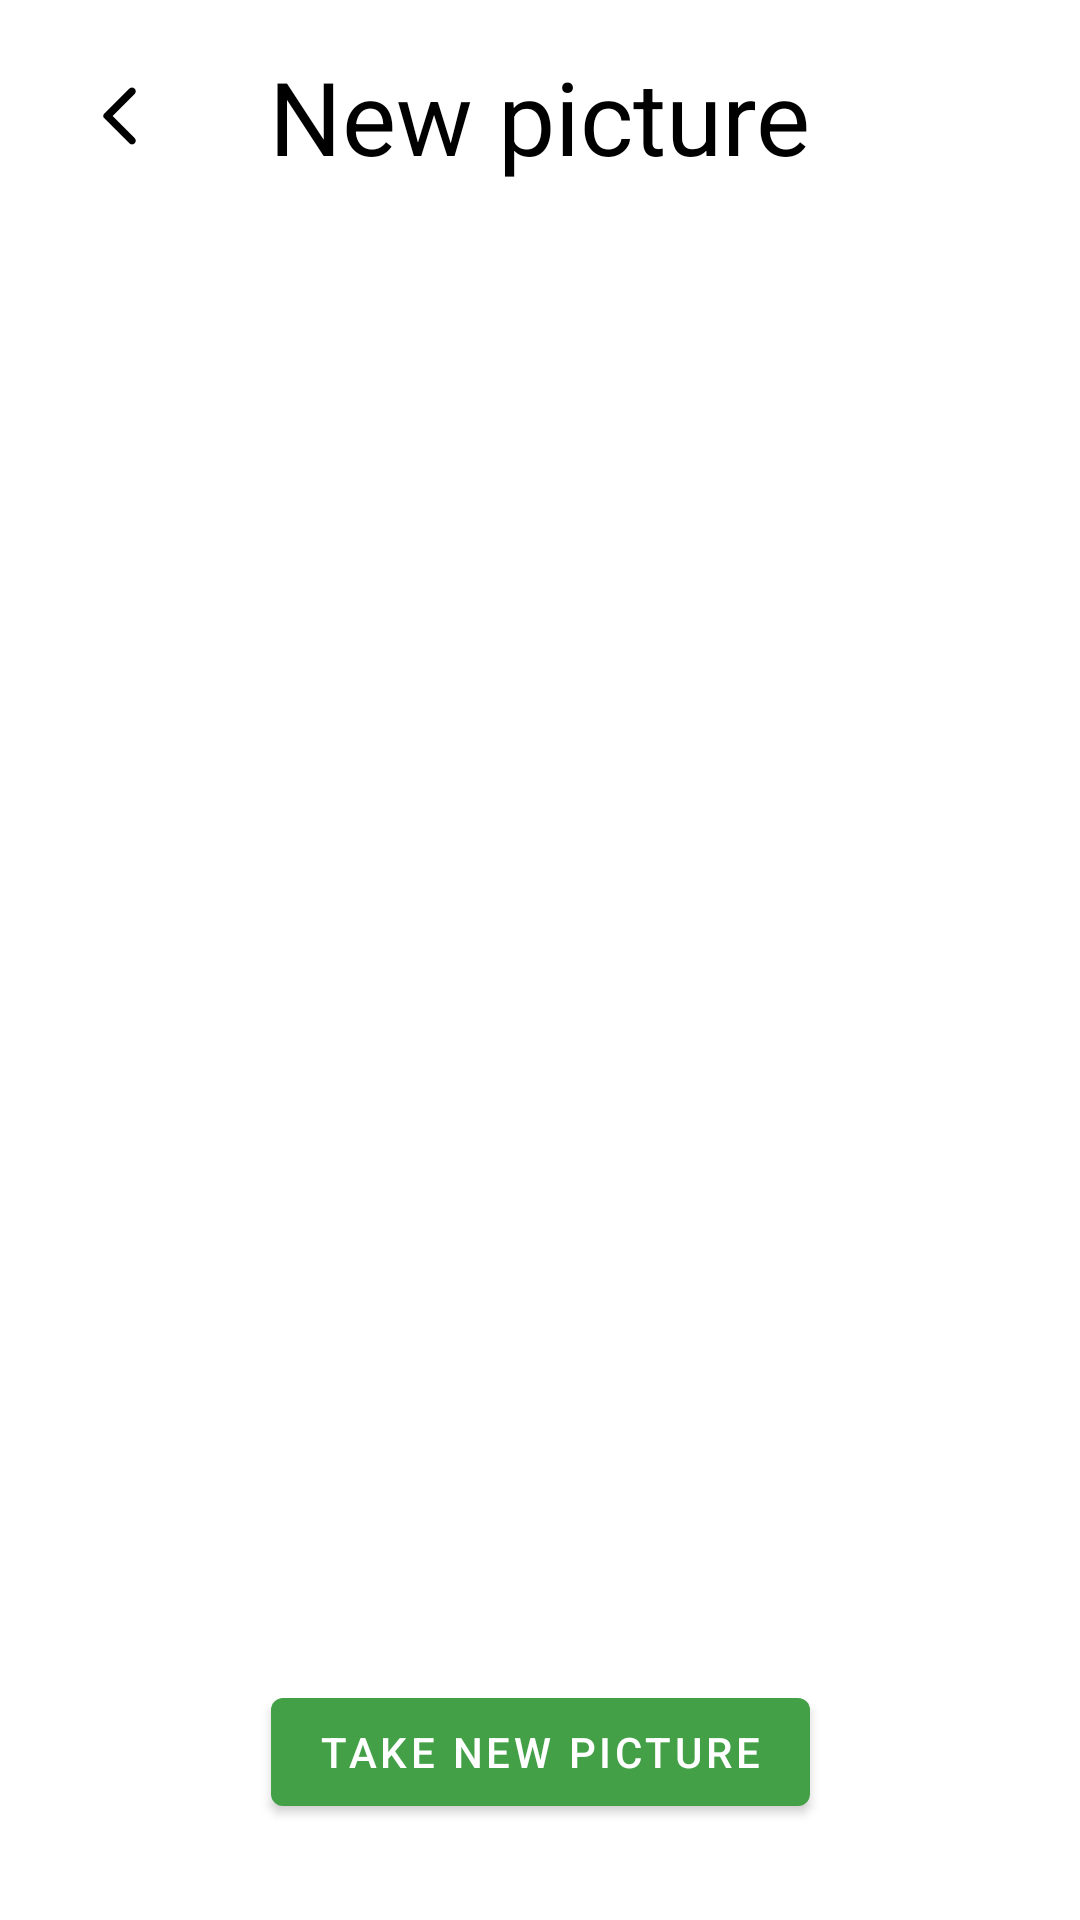

Where icons sit on this 1080×1920 app screen, as (x1, y1, x2, y2):
arrow back: (103, 87, 136, 145)
